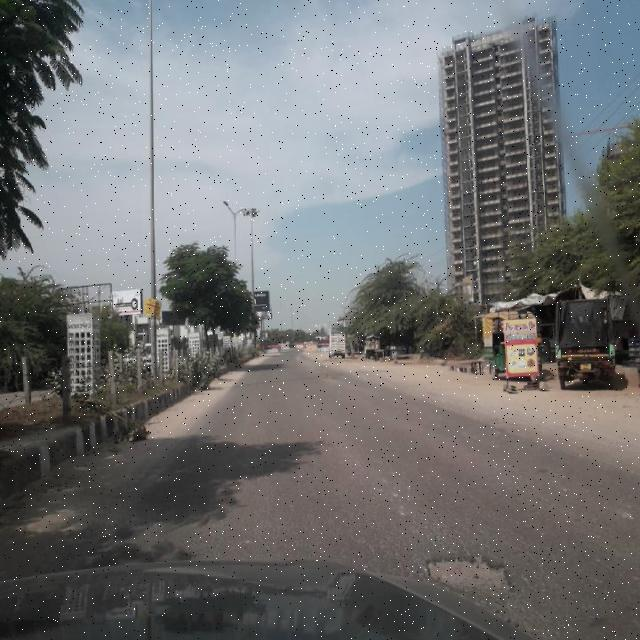D20: (186, 452, 580, 602)
D40: (416, 540, 527, 601)
